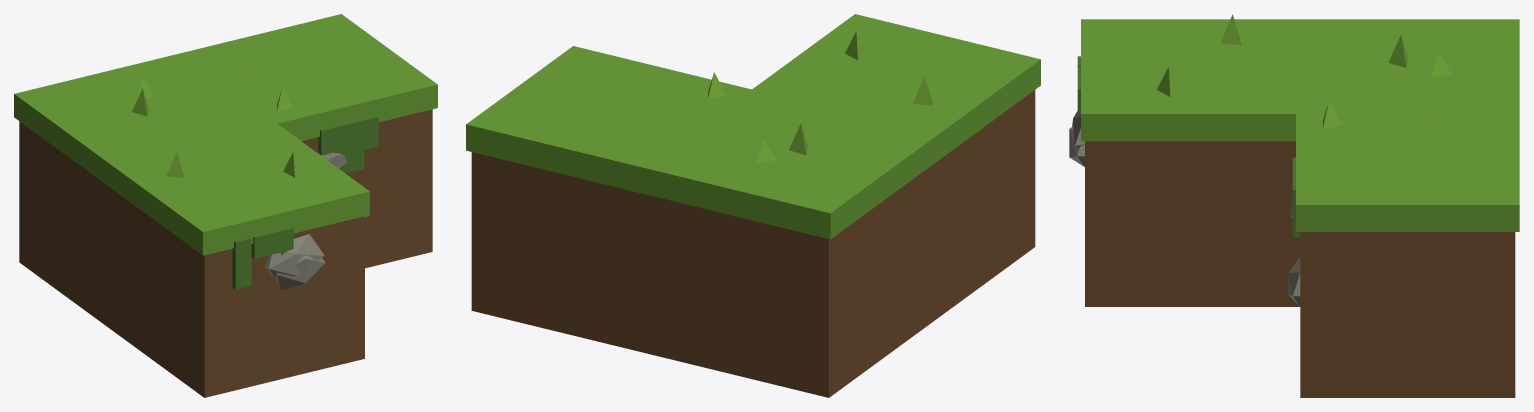
The model's file is ground_corner_outer.glb.
3 views of the same model, side by side, from view 1: azimuth 30°, elevation 25°; view 2: azimuth 150°, elevation 25°; view 3: azimuth 270°, elevation 25° (orthographic). The views are drawn at different scales.
Visible parts, largest first — view 1: grass-col, dirt-col, moss, stone, leaf_light; view 2: dirt-col, grass-col, leaf_light; view 3: grass-col, dirt-col, leaf_light, stone, moss.
Part boxes in pixels (x1,y1,x2,y2): grass-col: (14,14,437,255); dirt-col: (19,109,432,397); moss: (232,116,378,289); stone: (264,152,368,290); leaf_light: (132,56,301,177); dirt-col: (471,90,1035,397); grass-col: (466,14,1040,239); leaf_light: (647,31,933,163); grass-col: (1081,19,1519,231); dirt-col: (1085,141,1515,397); leaf_light: (1157,14,1451,132); stone: (1069,110,1300,306); moss: (1077,56,1300,237).
Bounding box in the file's own units: 4.08 × 2.3 × 4.19.
